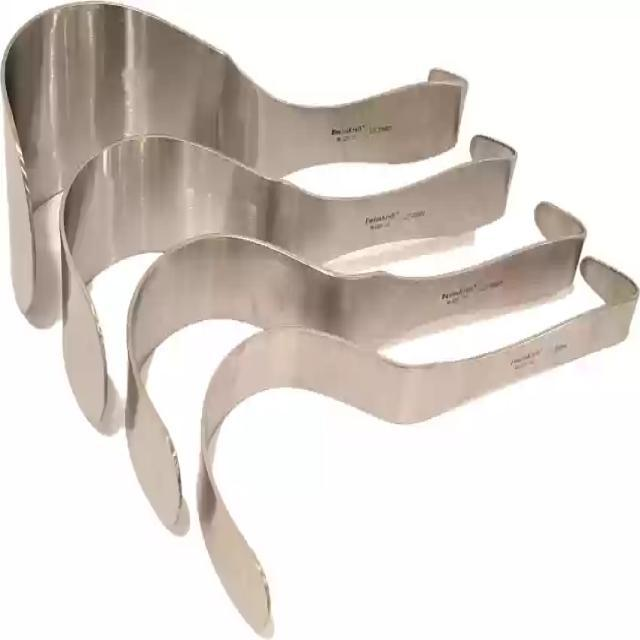Deaver Retractor: (195, 247, 638, 631), (2, 3, 498, 320), (128, 193, 594, 530), (58, 128, 526, 428)
